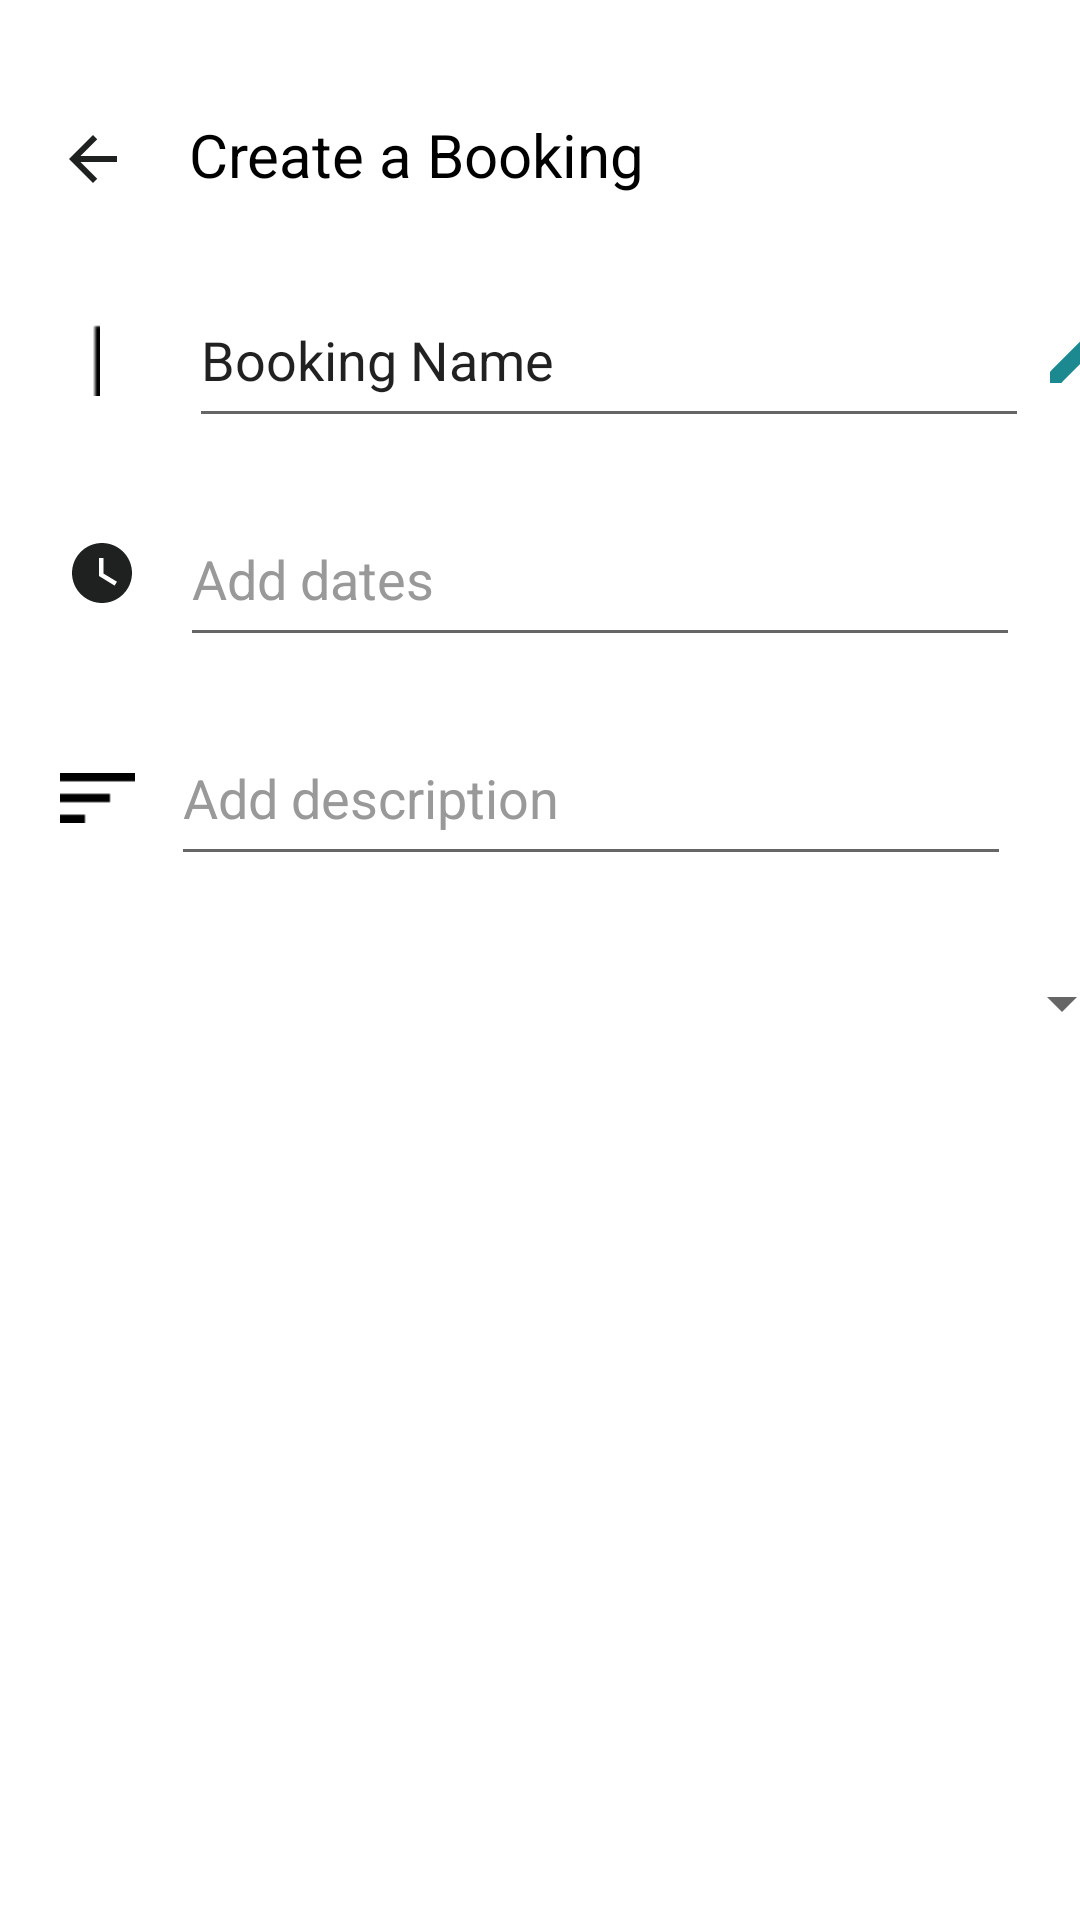

Screen size 1080×1920. Icon name, then its center in pixels as (x=x, y=y):
arrow back: (x=93, y=159)
